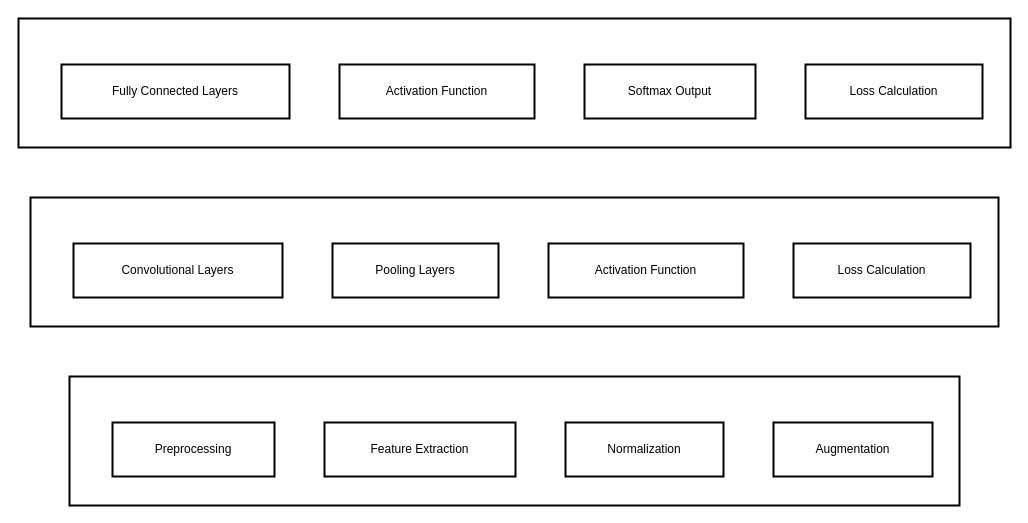
This 1028x523 diagram has some shape labels left out. Each missing label, with the box of its shape:
Input Image: (68, 375, 960, 506)
Stage 1: Segmentation: (29, 196, 999, 327)
Stage 2: Classification: (17, 17, 1011, 148)
